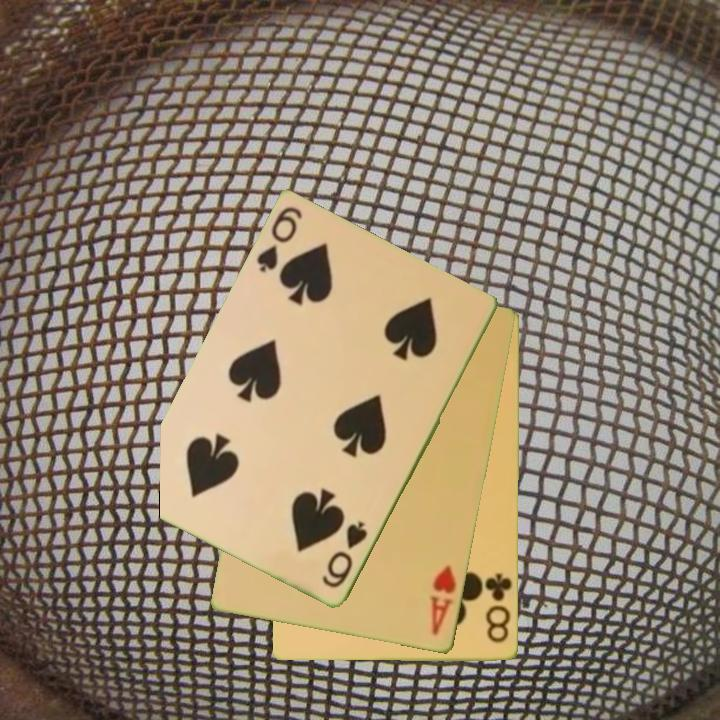6s: (318, 518, 371, 592), (253, 203, 306, 276)
8c: (482, 569, 515, 646)
Ah: (426, 562, 460, 639)
